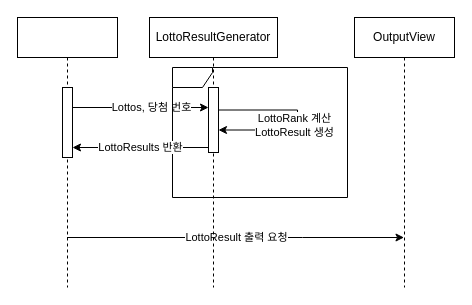
Some shapes in this 472 by 305 pixel diagram are drawn without their labels. Here are the shapes that lost their labels. From the top down, the box of each, then its label:
(16, 16, 118, 288): Controller
(172, 66, 348, 198): loop
